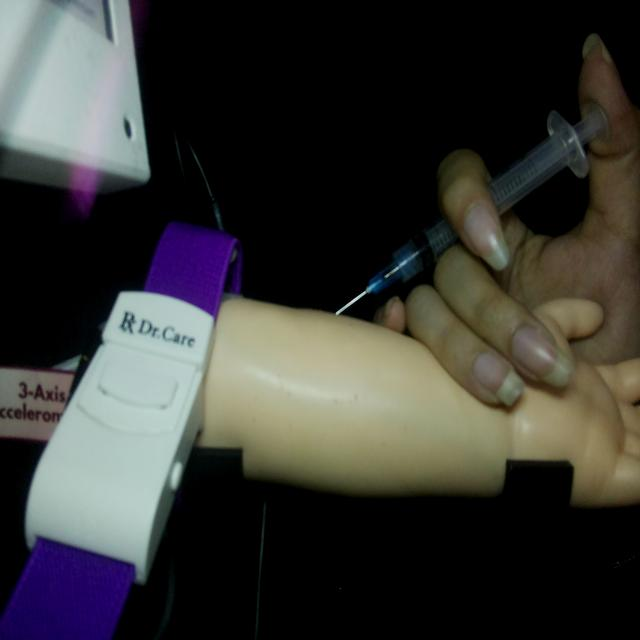22 degrees: (333, 98, 610, 318)
